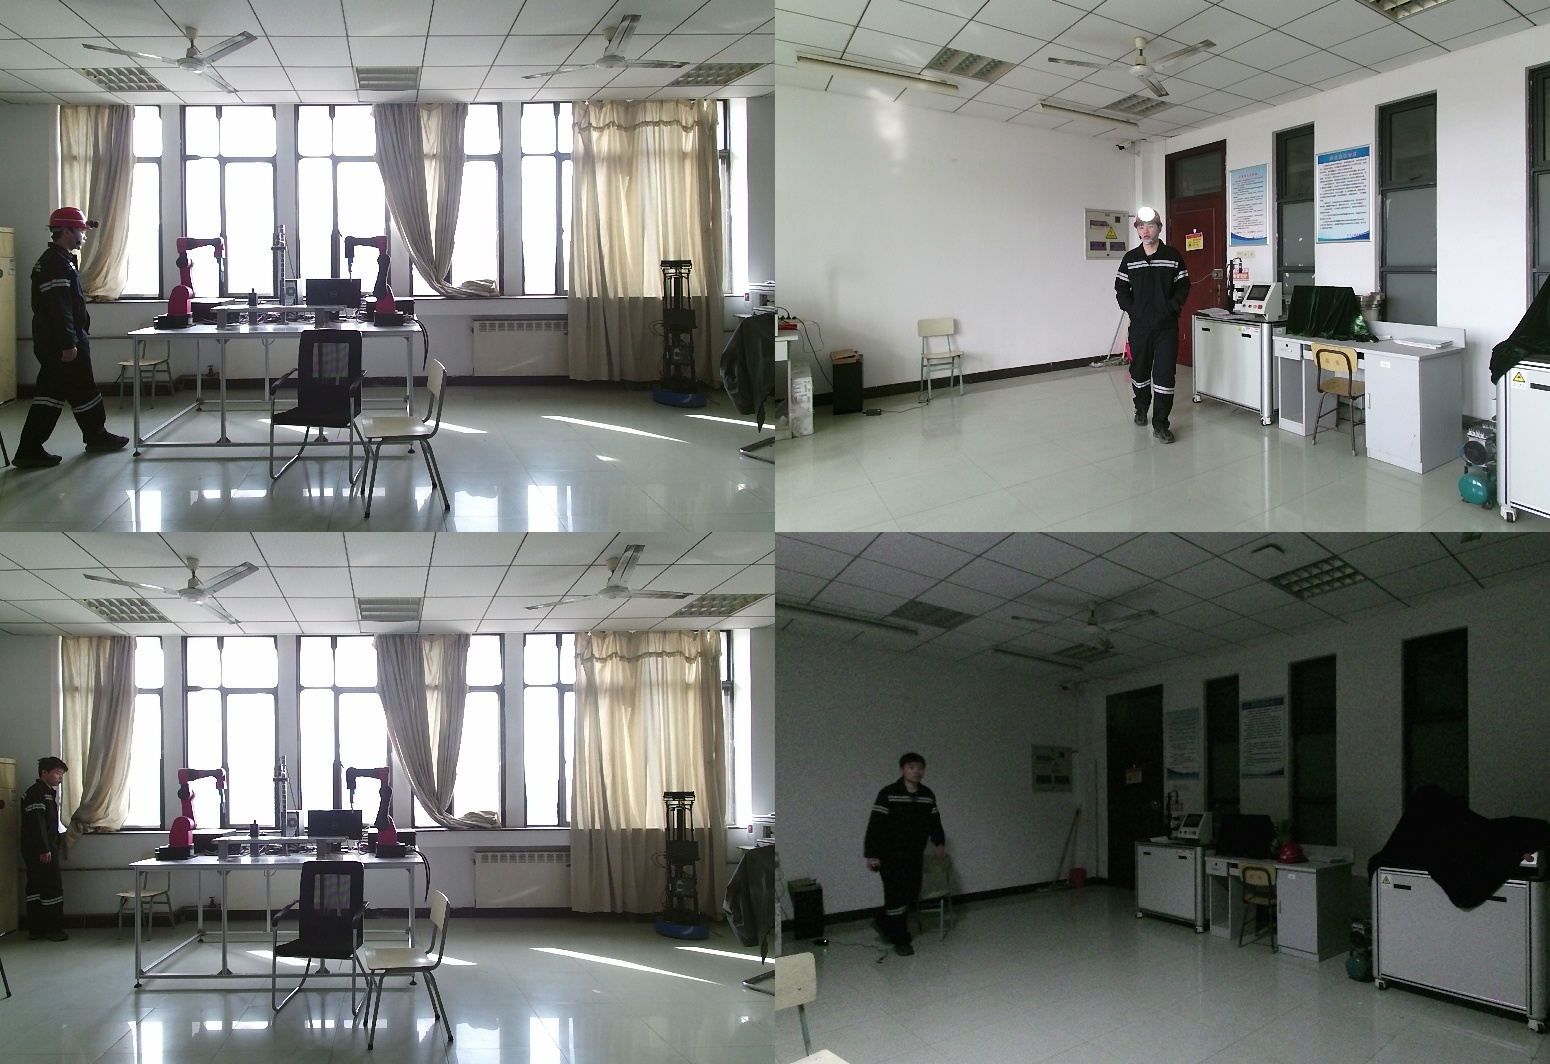person: (12, 207, 130, 467), (1114, 213, 1197, 442), (854, 755, 939, 967), (11, 760, 69, 940)
